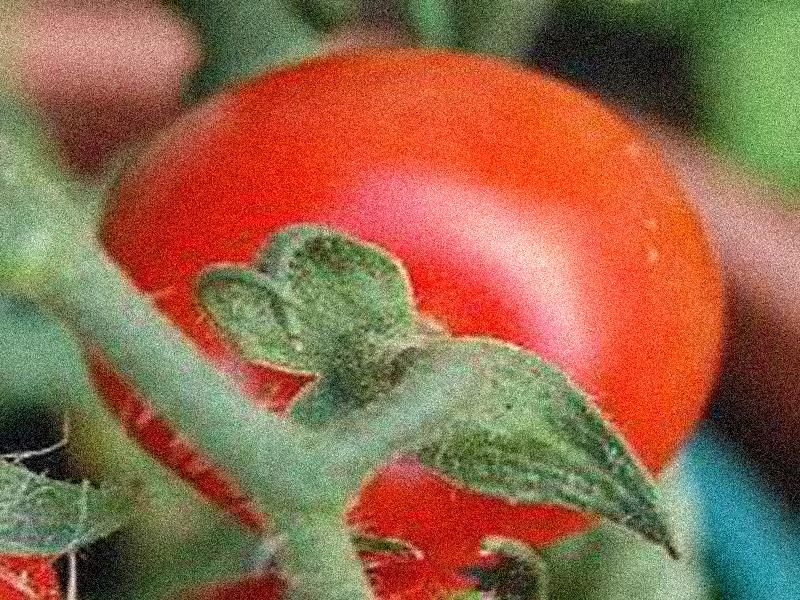Tomato: (79, 50, 725, 585)
